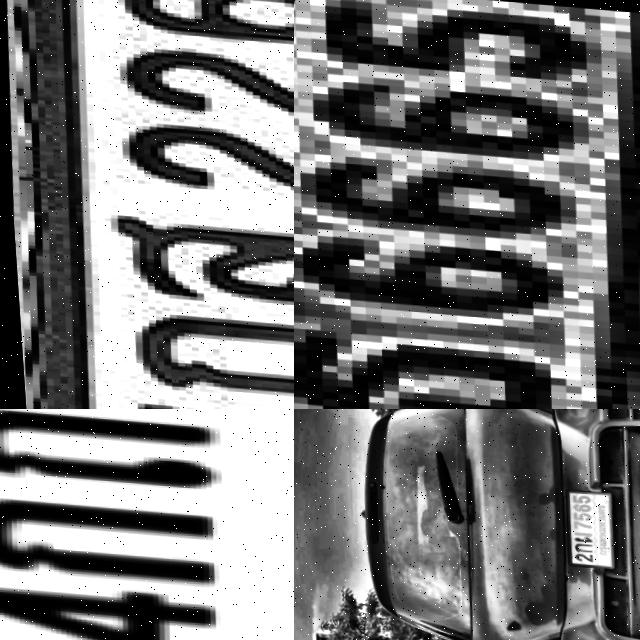license-plate: (294, 0, 640, 409), (14, 0, 294, 409), (0, 409, 294, 640), (556, 482, 612, 566)
